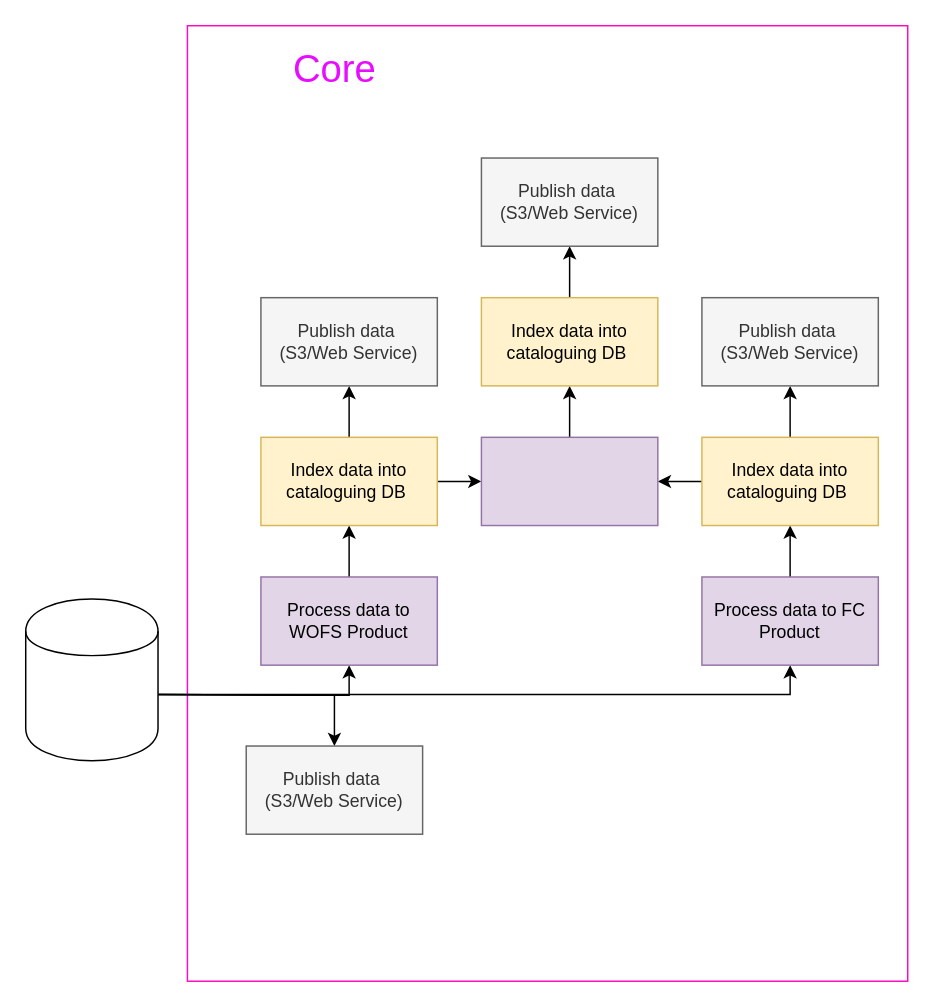
The diagram is 933 pixels wide and 1007 high, and some of its shapes have lost their labels. The centre of each missing label's shape, as x and y in pixels:
"indexed L2 ARD" belongs at point 91,679.
"Process data to stats WOFS & FC Product" belongs at point 569,481.
